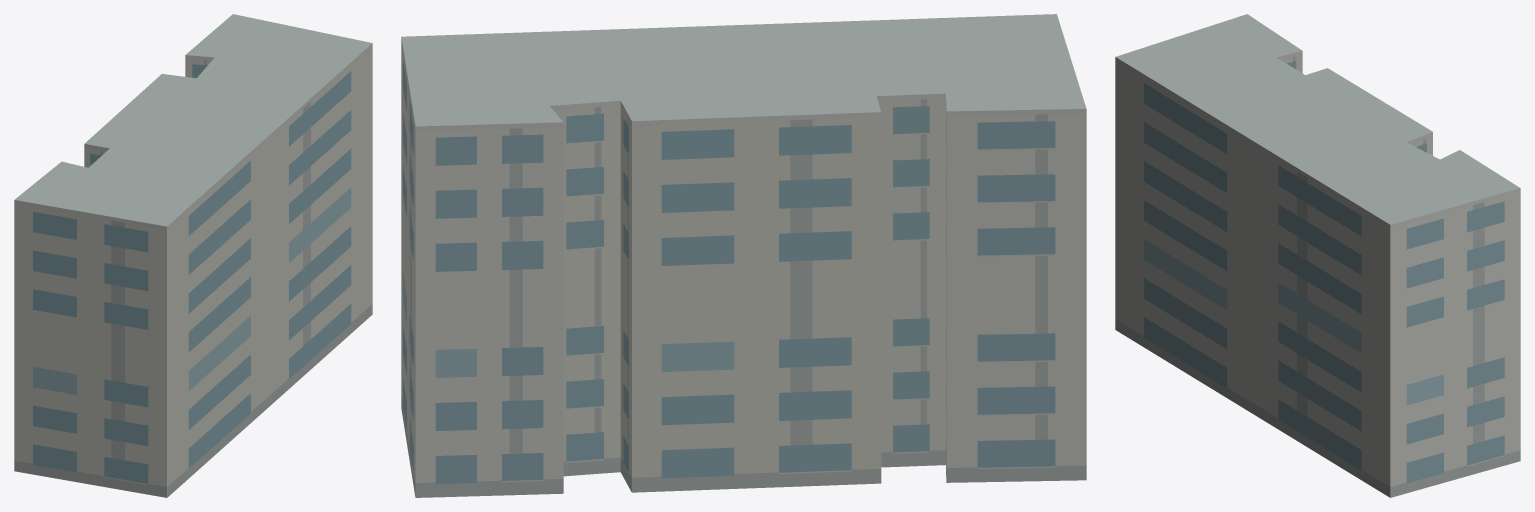
The model's file is survey-upis-32974652.glb.
The picture shows the model from 3 angles, left to right: view 1: azimuth 30°, elevation 25°; view 2: azimuth 150°, elevation 25°; view 3: azimuth 270°, elevation 25°; orthographic projection. The views are drawn at different scales.
Visible parts, largest first — view 1: survey-upis-32974652.tmp; view 2: survey-upis-32974652.tmp; view 3: survey-upis-32974652.tmp.
Part boxes in pixels (box(x1,y1,x2,y2)): survey-upis-32974652.tmp: box(14, 14, 372, 497); survey-upis-32974652.tmp: box(401, 14, 1086, 497); survey-upis-32974652.tmp: box(1115, 14, 1520, 497).
Size of the model in its own units: 31.31 by 18.9 by 25.43.
